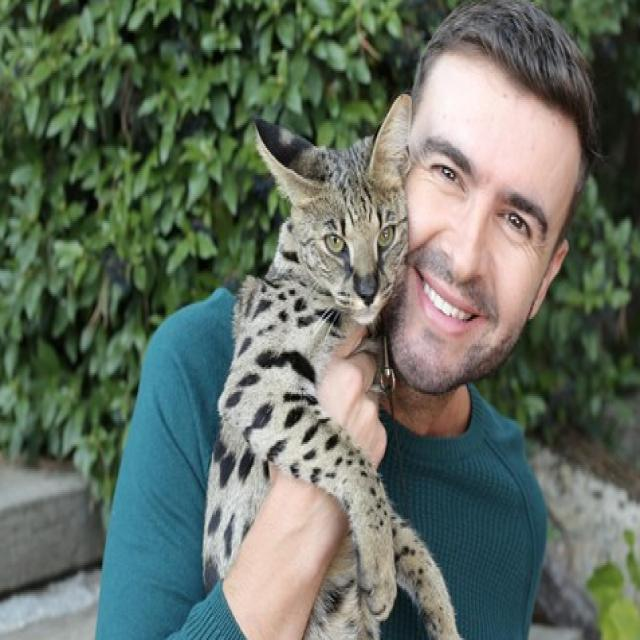Savannah: (198, 86, 482, 640)
